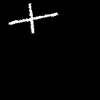single_crochet: (9, 4, 57, 32)
